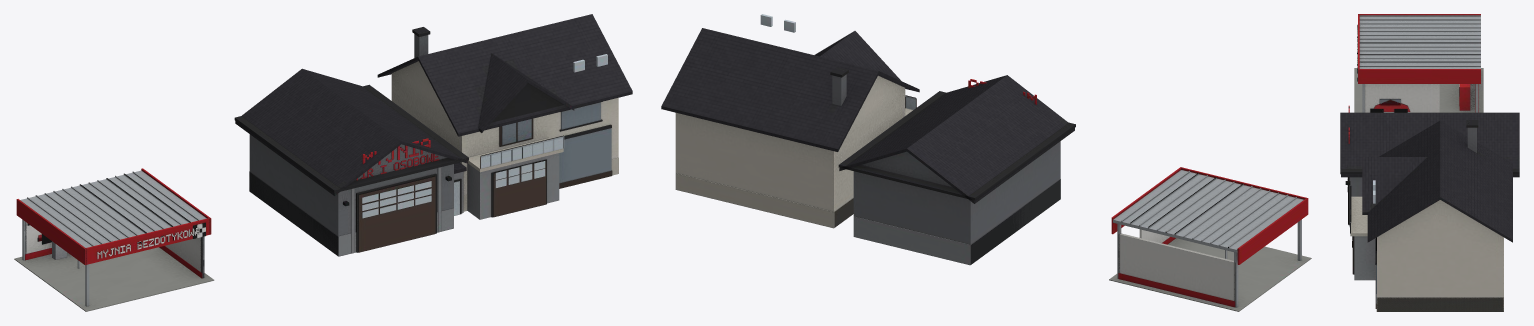
The model's file is myjnia.glb.
3 renders of one model, left to right at view 1: azimuth 30°, elevation 25°; view 2: azimuth 150°, elevation 25°; view 3: azimuth 270°, elevation 25°, orthographic. The views are drawn at different scales.
Parts seen in each view (by area): view 1: myjnia; view 2: myjnia; view 3: myjnia.
Boxes of the visible parts, left/top/right/bottom form: myjnia: left=14, top=14, right=632, bottom=311; myjnia: left=661, top=14, right=1311, bottom=311; myjnia: left=1340, top=14, right=1519, bottom=311.
Size of the model in its own units: 43.2 by 10.4 by 13.45.
1 material, 1 textured.
